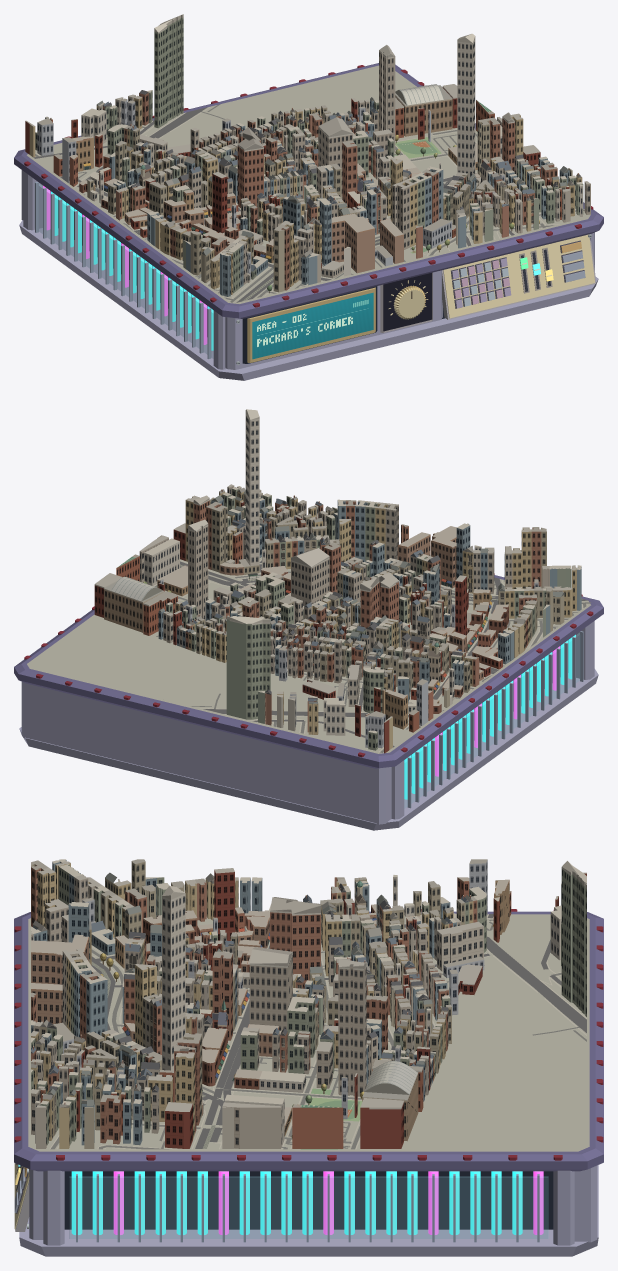
Rendered from segment-place-brico.glb.
3 renders of one model, top to bottom at view 1: azimuth 30°, elevation 25°; view 2: azimuth 150°, elevation 25°; view 3: azimuth 270°, elevation 25°, orthographic. The views are drawn at different scales.
Parts seen in each view (by area): view 1: Masonry street elevations, Masonry, foliage and streets, Brushed chamfers, Powder-coated alloy, Fluted instrument glass, LCD_Screen, Ice discharge tubes, Enamel and window panes, Rose discharge tubes, Rotary_Dial; view 2: Masonry street elevations, Masonry, foliage and streets, Powder-coated alloy, Brushed chamfers, Fluted instrument glass, Ice discharge tubes, Rose discharge tubes; view 3: Masonry, foliage and streets, Masonry street elevations, Powder-coated alloy, Fluted instrument glass, Brushed chamfers, Ice discharge tubes, Rose discharge tubes.
Part boxes in pixels (x1,y1,x2,y2): Masonry street elevations: [35, 17, 590, 296]; Masonry, foliage and streets: [25, 14, 590, 303]; Brushed chamfers: [14, 63, 603, 369]; Powder-coated alloy: [19, 65, 598, 380]; Fluted instrument glass: [39, 184, 213, 358]; LCD_Screen: [252, 292, 373, 359]; Ice discharge tubes: [51, 191, 213, 350]; Enamel and window panes: [452, 241, 585, 308]; Rose discharge tubes: [43, 185, 207, 344]; Rotary_Dial: [393, 285, 425, 319]; Masonry street elevations: [94, 415, 575, 750]; Masonry, foliage and streets: [27, 409, 590, 753]; Powder-coated alloy: [19, 573, 598, 830]; Brushed chamfers: [14, 575, 603, 819]; Fluted instrument glass: [404, 633, 579, 808]; Ice discharge tubes: [404, 634, 575, 799]; Rose discharge tubes: [435, 646, 560, 776]; Masonry, foliage and streets: [28, 859, 589, 1151]; Masonry street elevations: [31, 860, 586, 1148]; Powder-coated alloy: [14, 909, 603, 1256]; Fluted instrument glass: [69, 1176, 548, 1238]; Brushed chamfers: [14, 878, 603, 1245]; Ice discharge tubes: [71, 1171, 522, 1234]; Rose discharge tubes: [113, 1171, 543, 1234].
Bounding box in the file's own units: 0.9 × 0.5421 × 0.9.
10 materials, 2 textured.
